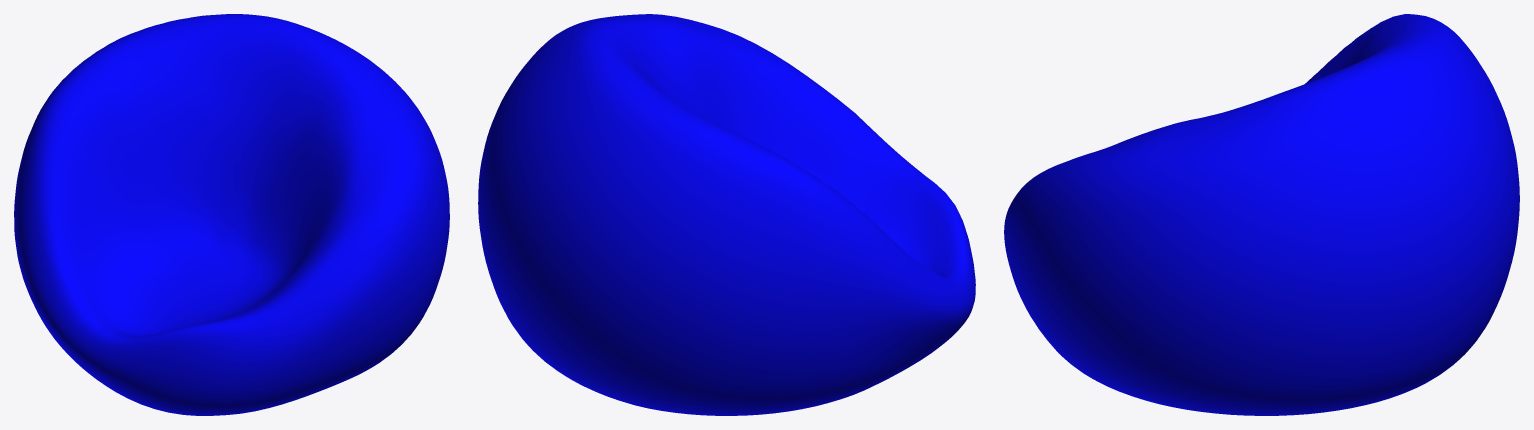
Rendered from beanbagupdate.fbx.
3 renders of one model, left to right at view 1: azimuth 30°, elevation 25°; view 2: azimuth 150°, elevation 25°; view 3: azimuth 270°, elevation 25°, orthographic. The views are drawn at different scales.
Parts seen in each view (by area): view 1: pSphere1; view 2: pSphere1; view 3: pSphere1.
Boxes of the visible parts, box(x1,y1,x2,y2) form: pSphere1: box(14, 14, 449, 415); pSphere1: box(478, 14, 975, 415); pSphere1: box(1004, 14, 1519, 415).
Size of the model in its own units: 5.55 by 3.91 by 5.55.
